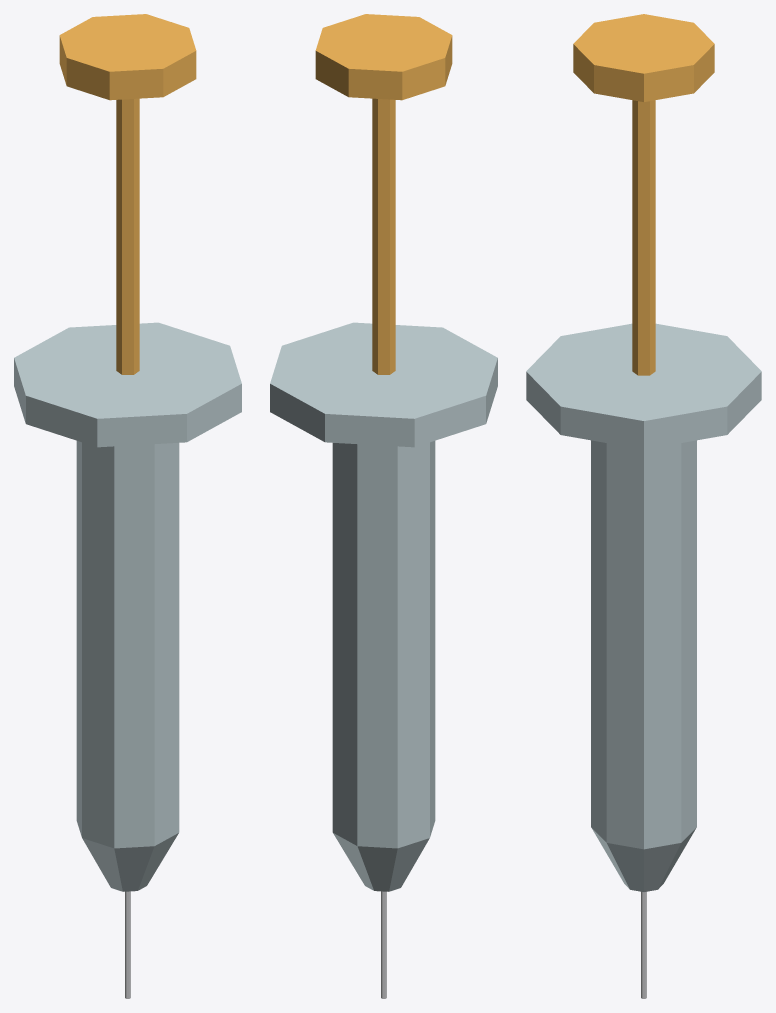
File: syringe_5cc_lowpoly.fbx
3 views of the same model, side by side, from view 1: azimuth 30°, elevation 25°; view 2: azimuth 150°, elevation 25°; view 3: azimuth 270°, elevation 25° (orthographic).
Visible parts, largest first — view 1: Syringe_Body, Syringe_Plunger; view 2: Syringe_Body, Syringe_Plunger; view 3: Syringe_Body, Syringe_Plunger.
Part boxes in pixels (x1,y1,x2,y2): Syringe_Body: (14,322,241,998); Syringe_Plunger: (59,14,196,374); Syringe_Body: (270,322,497,998); Syringe_Plunger: (315,14,452,374); Syringe_Body: (526,323,761,998); Syringe_Plunger: (573,14,714,375).
Size of the model in its own units: 0.03 by 0.134 by 0.03.
